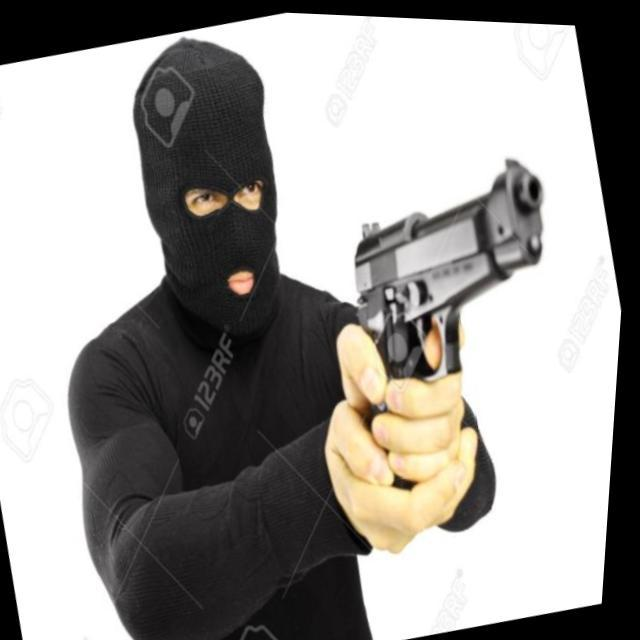weapon: (316, 137, 609, 501)
